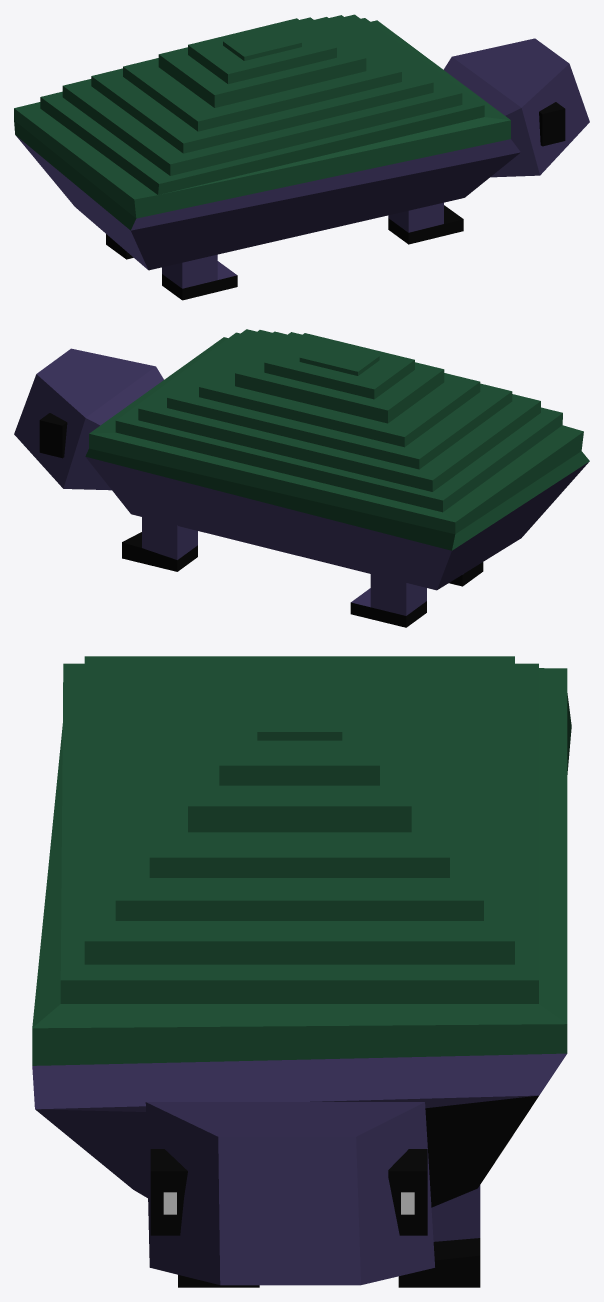
File: Pokemon_Squirtle.glb
The picture shows the model from 3 angles, top to bottom: view 1: azimuth 30°, elevation 25°; view 2: azimuth 150°, elevation 25°; view 3: azimuth 270°, elevation 25°; orthographic projection. The views are drawn at different scales.
Parts seen in each view (by area): view 1: Pokemon_Squirtle; view 2: Pokemon_Squirtle; view 3: Pokemon_Squirtle.
Boxes of the visible parts, bbox=[...] form: Pokemon_Squirtle: bbox=[14, 14, 589, 300]; Pokemon_Squirtle: bbox=[14, 329, 589, 627]; Pokemon_Squirtle: bbox=[32, 656, 571, 1287].
Size of the model in its own units: 7.15 by 2.86 by 3.35.
